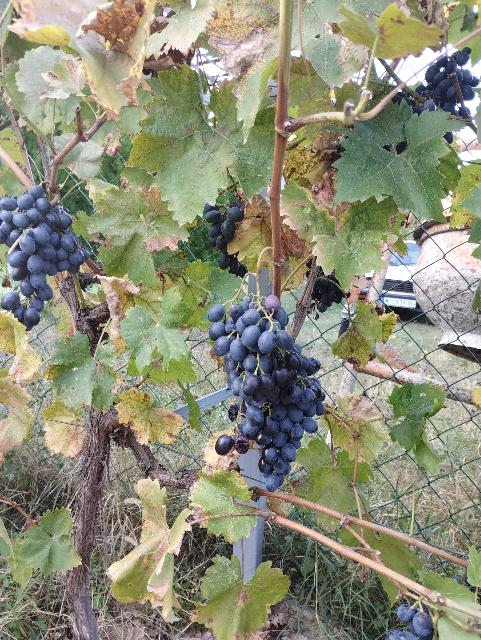grapes: (209, 294, 326, 491), (0, 185, 89, 330), (205, 201, 247, 278)
